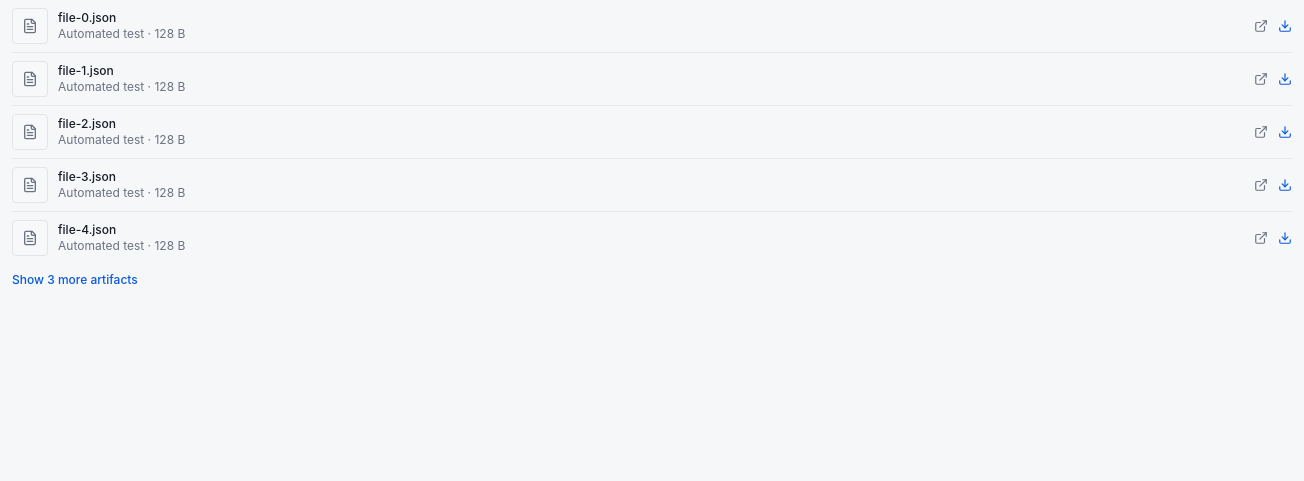
Test: the evidence rail › keeps a failed download to the artifact it belongs to, saving nothing
The image size is (1304, 481).
Click the button "Show 3 more artifacts" at (75, 280), box [12,272,138,288]
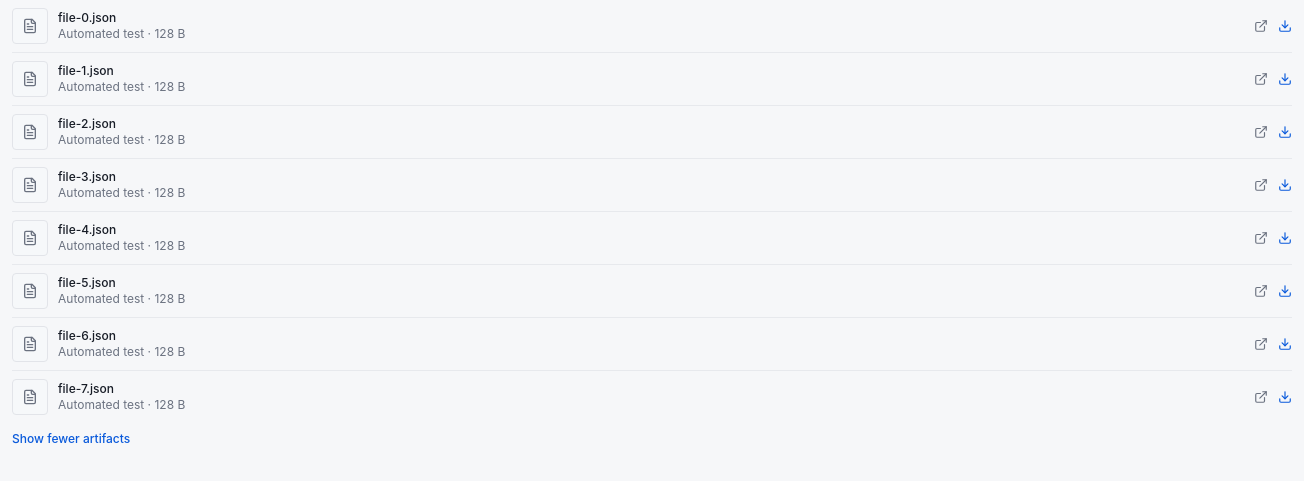
Click the button named "Download file-6.json" at (1285, 344), box [1278,337,1292,351]
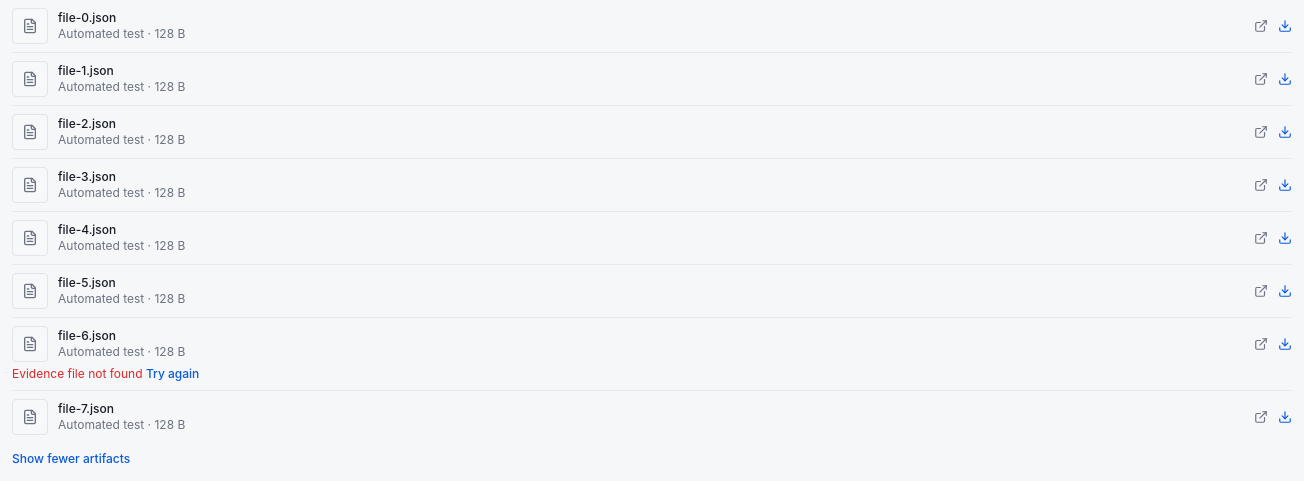
Now the number of list items is 8
Now the list item named "Download file-6.json" shows "Evidence file not found", box [12,366,143,381]
